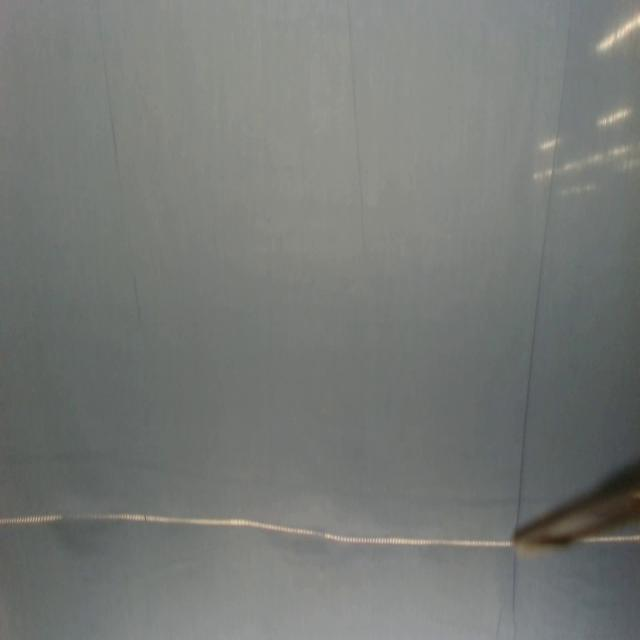crease: (515, 24, 576, 505), (94, 1, 142, 326), (342, 0, 367, 252), (510, 554, 520, 630), (496, 606, 506, 638)
